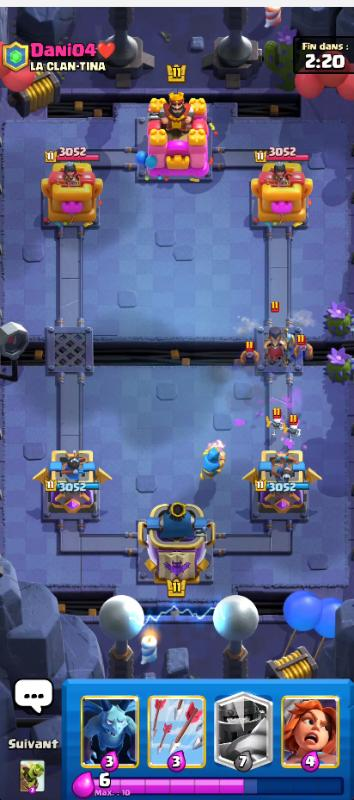bat: (293, 337, 315, 359), (242, 337, 259, 364)
squelette: (267, 409, 287, 434), (288, 417, 301, 441)
